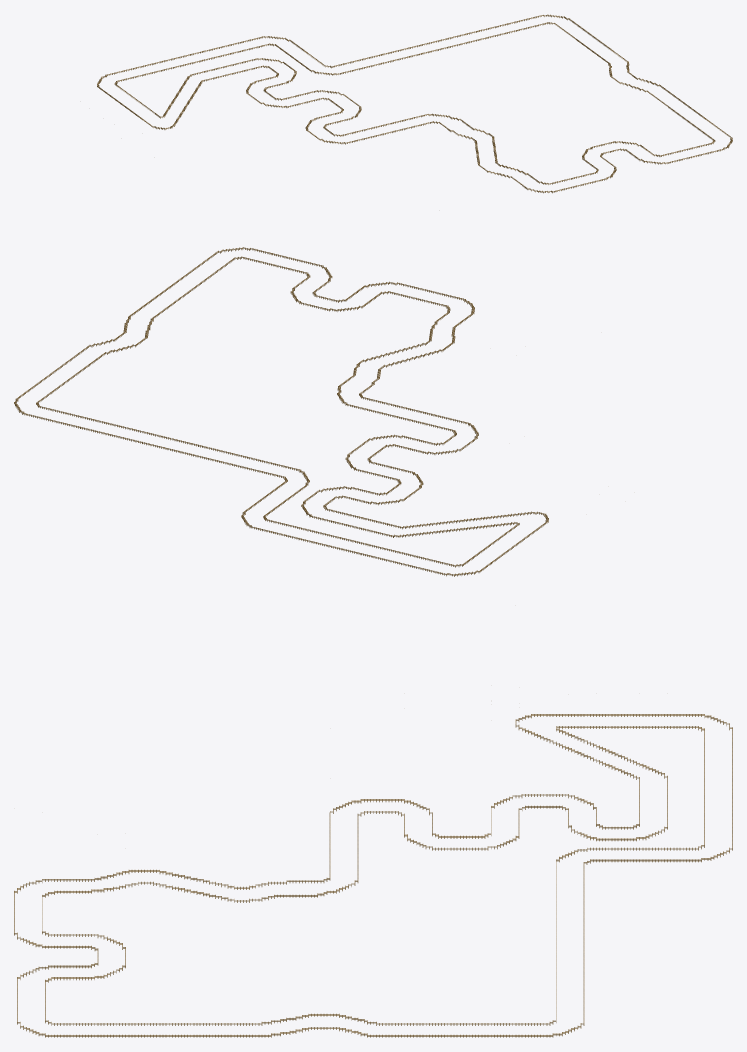
The model's file is Cercas.fbx.
The picture shows the model from 3 angles, top to bottom: view 1: azimuth 30°, elevation 25°; view 2: azimuth 150°, elevation 25°; view 3: azimuth 270°, elevation 25°; orthographic projection. The views are drawn at different scales.
Visible parts, largest first — view 1: Cercas; view 2: Cercas; view 3: Cercas.
Boxes of the visible parts, x1=… form: Cercas: x1=97, y1=14, x2=732, y2=193; Cercas: x1=14, y1=247, x2=548, y2=576; Cercas: x1=14, y1=714, x2=732, y2=1037.
Bounding box in the file's own units: 32860 × 100 × 23221.
Materials: 1 (1 with a texture image).
